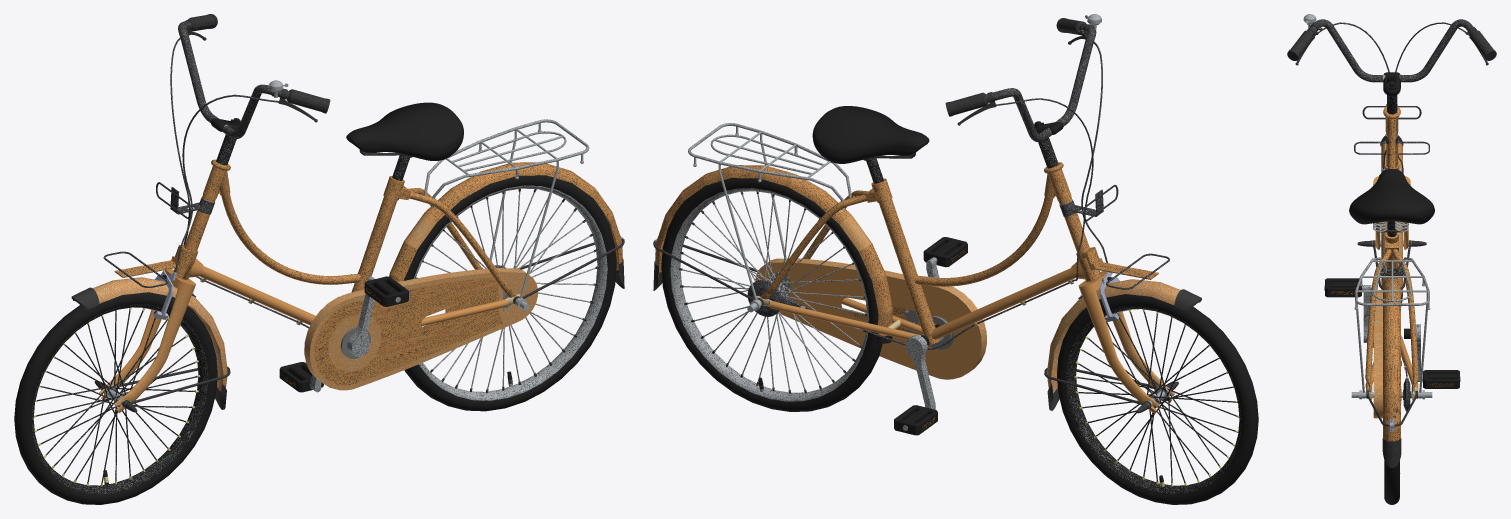
File: xedap-city-bike.fbx
3 renders of one model, left to right at view 1: azimuth 30°, elevation 25°; view 2: azimuth 150°, elevation 25°; view 3: azimuth 270°, elevation 25°, orthographic. The views are drawn at different scales.
Parts seen in each view (by area): view 1: Group33, Group17, Group24, Group68, mamachari_dxf1, Group25, Group22, Group56, Group35, Group21, Group61, Group48 (+4 smaller); view 2: Group33, Group24, Group68, Group17, Group25, mamachari_dxf1, Group22, Group56, Group35, Group20, Group48, Group60 (+5 smaller); view 3: Group68, mamachari_dxf1, Group25, Group56, Group22, Group17, Group21, Group20, Group48, Group24, Group35, Group26 (+4 smaller).
Boxes of the visible parts, box(x1,y1,x2,y2) form: Group33: box(14, 292, 217, 504); Group17: box(304, 268, 537, 390); Group24: box(404, 175, 616, 411); Group68: box(114, 118, 516, 325); mamachari_dxf1: box(346, 102, 463, 160); Group25: box(389, 162, 622, 282); Group22: box(424, 119, 589, 304); Group56: box(178, 14, 330, 139); Group35: box(93, 277, 227, 391); Group21: box(347, 276, 408, 356); Group61: box(114, 289, 192, 412); Group48: box(421, 294, 529, 325); Group33: box(1057, 294, 1258, 504); Group24: box(661, 178, 882, 411); Group68: box(760, 121, 1158, 344); Group17: box(755, 258, 986, 379); Group25: box(655, 165, 892, 343); mamachari_dxf1: box(812, 106, 929, 163); Group22: box(688, 123, 851, 306); Group56: box(945, 18, 1096, 142); Group35: box(1047, 279, 1180, 393); Group20: box(894, 335, 937, 435); Group48: box(747, 283, 923, 339); Group60: box(1082, 291, 1159, 413); Group68: box(1365, 72, 1418, 391); mamachari_dxf1: box(1349, 169, 1434, 224); Group25: box(1383, 278, 1401, 441); Group56: box(1287, 19, 1496, 82); Group22: box(1355, 257, 1429, 398); Group17: box(1373, 290, 1382, 418); Group21: box(1324, 278, 1371, 342); Group20: box(1404, 324, 1460, 388); Group48: box(1351, 335, 1432, 399); Group24: box(1384, 386, 1401, 504); Group35: box(1381, 140, 1402, 296); Group26: box(1382, 438, 1401, 467).
Bounding box in the file's own units: 182 × 123 × 63.88.
